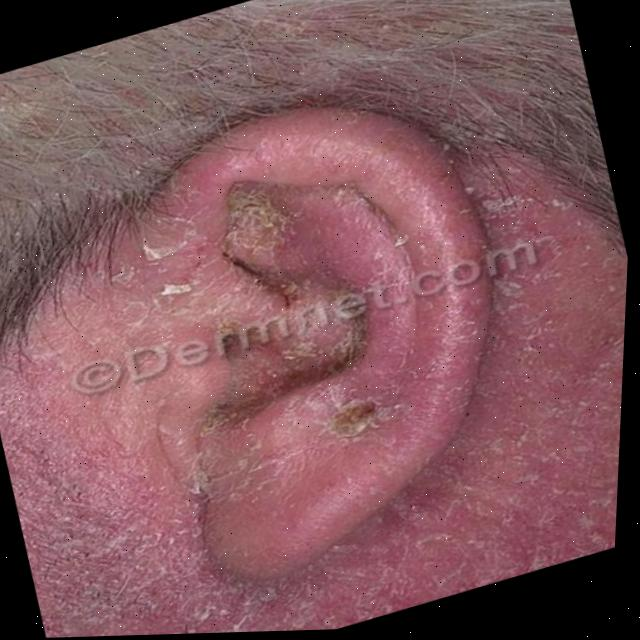Eczema: (0, 70, 636, 640)
